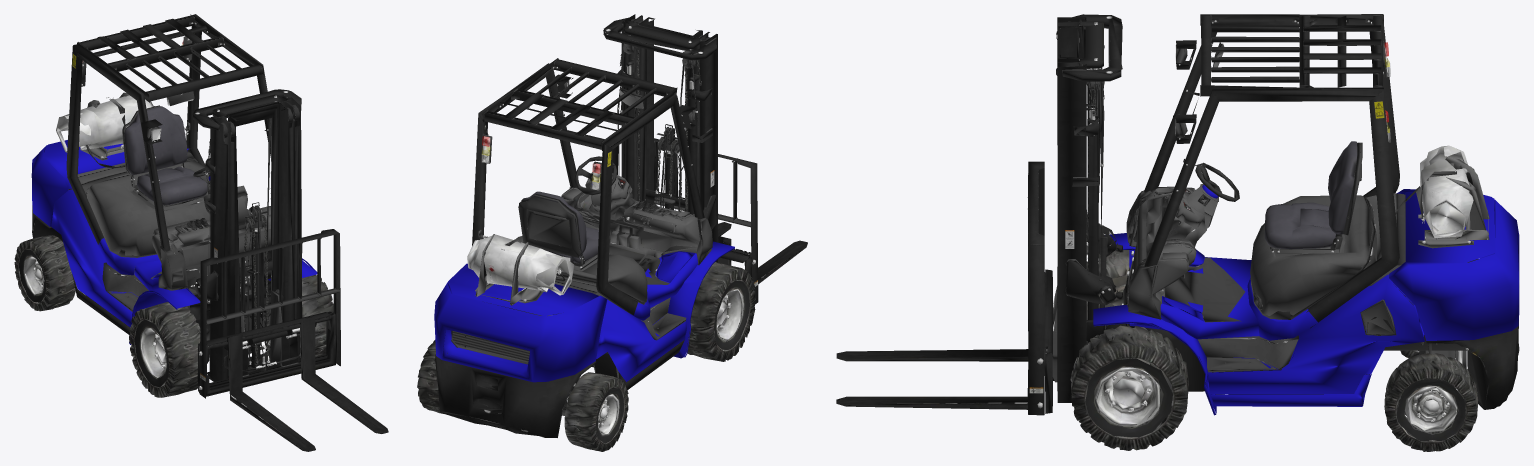
The model's file is forklift.glb.
3 views of the same model, side by side, from view 1: azimuth 30°, elevation 25°; view 2: azimuth 150°, elevation 25°; view 3: azimuth 270°, elevation 25° (orthographic). The views are drawn at different scales.
Parts seen in each view (by area): view 1: body, carriage, mast2; view 2: body, mast2, carriage; view 3: body, carriage, mast2.
Boxes of the visible parts, bbox=[...] form: body: bbox=[14, 14, 333, 397]; carriage: bbox=[197, 229, 388, 451]; mast2: bbox=[224, 102, 288, 372]; body: bbox=[417, 14, 755, 451]; mast2: bbox=[636, 17, 702, 211]; carriage: bbox=[612, 138, 807, 303]; body: bbox=[1056, 14, 1519, 451]; carriage: bbox=[836, 161, 1057, 415]; mast2: bbox=[1057, 24, 1088, 390].
Bounding box in the file's own units: 1.35 × 2.17 × 3.73.
Materials: 19 (13 with a texture image).
